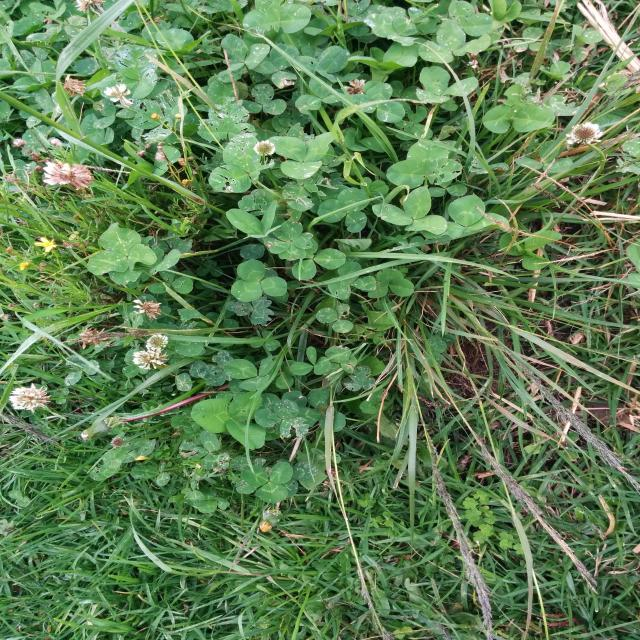Four Leaf Clover: (262, 220, 313, 261)
